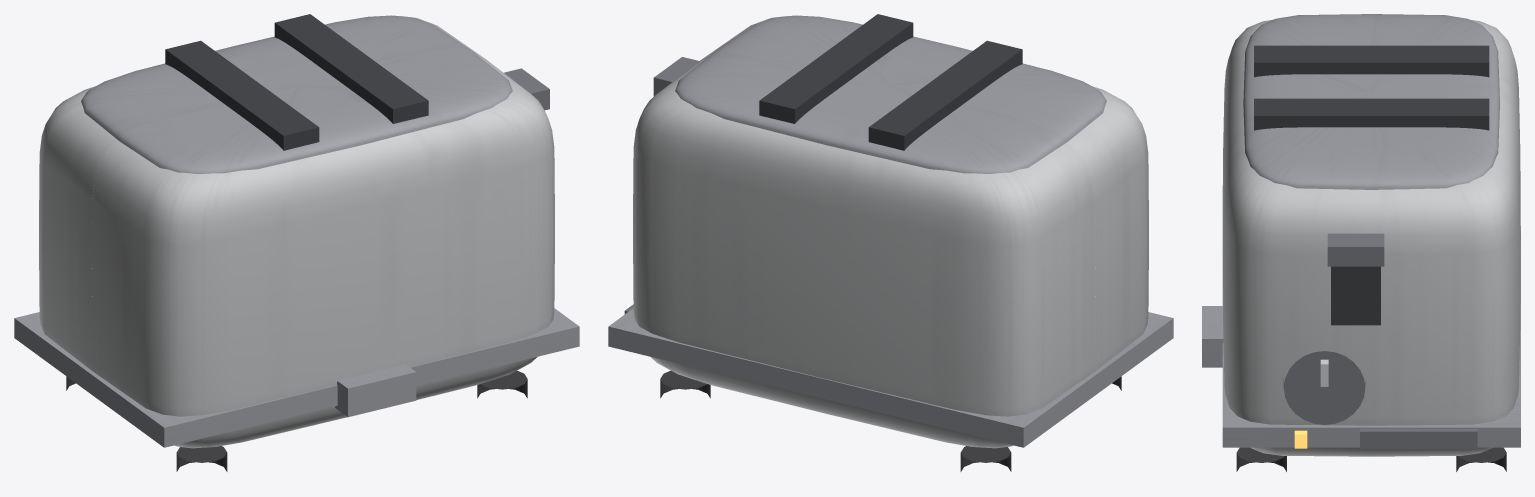
File: toaster.glb
The picture shows the model from 3 angles, left to right: view 1: azimuth 30°, elevation 25°; view 2: azimuth 150°, elevation 25°; view 3: azimuth 270°, elevation 25°; orthographic projection.
Visible parts, largest first — view 1: body, top-plate, slot (×2), crumb-tray, tray-pull, foot (×2), lever-cap; view 2: body, top-plate, crumb-tray, slot (×2), foot (×2), lever-cap; view 3: body, top-plate, slot (×2), crumb-tray, dial, lever, browning-marks, lever-cap, foot (×2), tray-pull.
Boxes of the visible parts, box(x1,y1,x2,y2) form: body: box(39, 16, 554, 448); top-plate: box(81, 15, 512, 173); slot (×2): box(165, 14, 428, 150); crumb-tray: box(14, 308, 579, 447); tray-pull: box(335, 364, 416, 417); foot (×2): box(176, 370, 527, 471); lever-cap: box(504, 68, 549, 110); body: box(633, 16, 1148, 448); top-plate: box(675, 15, 1106, 173); crumb-tray: box(608, 308, 1173, 447); slot (×2): box(759, 14, 1022, 150); foot (×2): box(660, 370, 1011, 471); lever-cap: box(653, 57, 699, 96); body: box(1222, 19, 1520, 456); top-plate: box(1243, 14, 1499, 189); slot (×2): box(1254, 45, 1489, 130); crumb-tray: box(1222, 226, 1520, 447); dial: box(1283, 351, 1365, 424); lever: box(1331, 266, 1380, 325); browning-marks: box(1360, 429, 1477, 448); lever-cap: box(1327, 233, 1384, 266); foot (×2): box(1236, 447, 1506, 471); tray-pull: box(1202, 306, 1223, 367).
Bounding box in the file's own units: 0.322 × 0.224 × 0.203.
Materials: 7 (3 with a texture image).
